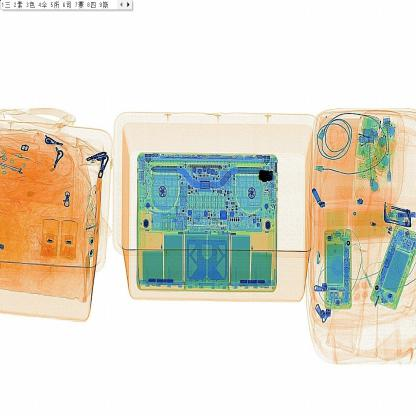scissors: (255, 164, 280, 192)
